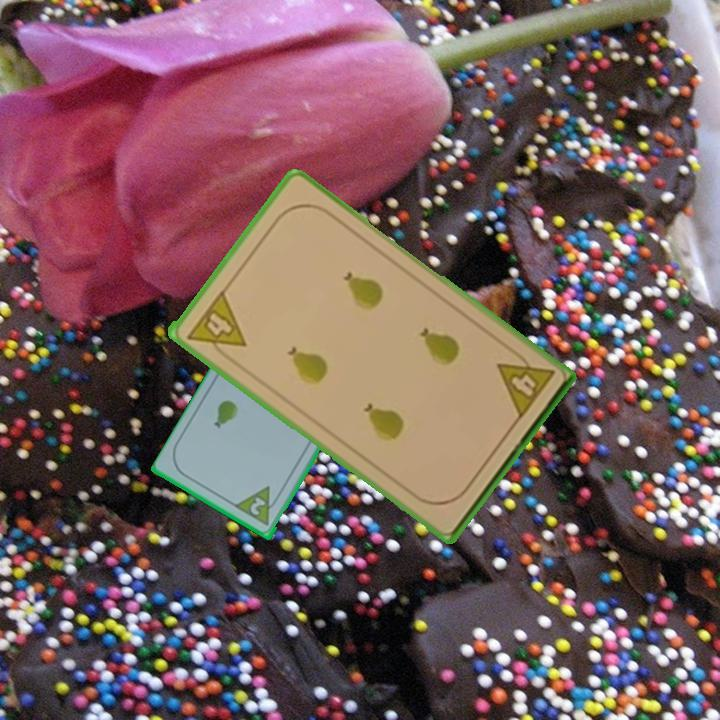2p: (233, 483, 284, 530)
4p: (183, 286, 249, 365), (493, 344, 558, 423)
